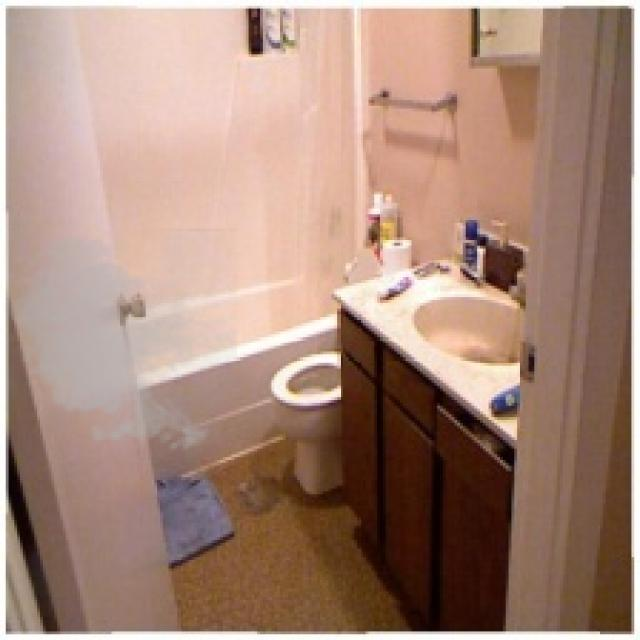smoke: (0, 229, 237, 457)
